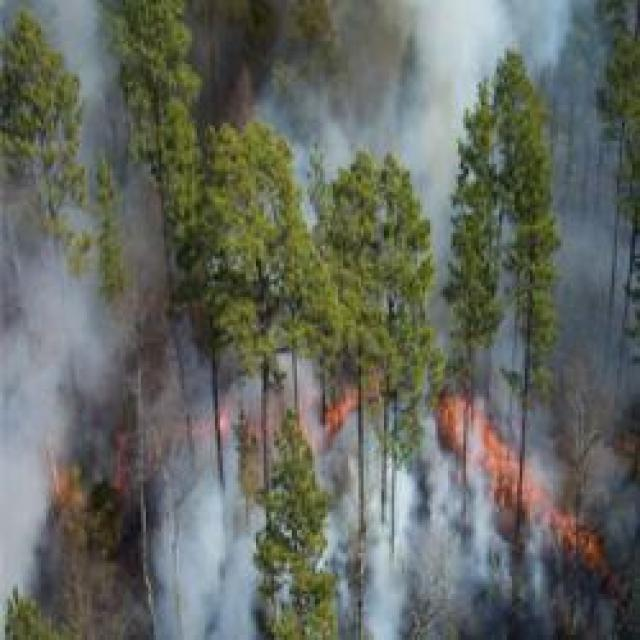Fire: (442, 396, 611, 594), (314, 380, 408, 448), (45, 456, 101, 518), (108, 426, 160, 484), (198, 406, 260, 447)
Smoke: (256, 7, 636, 205), (0, 0, 127, 570), (158, 451, 514, 640), (503, 205, 640, 385)
